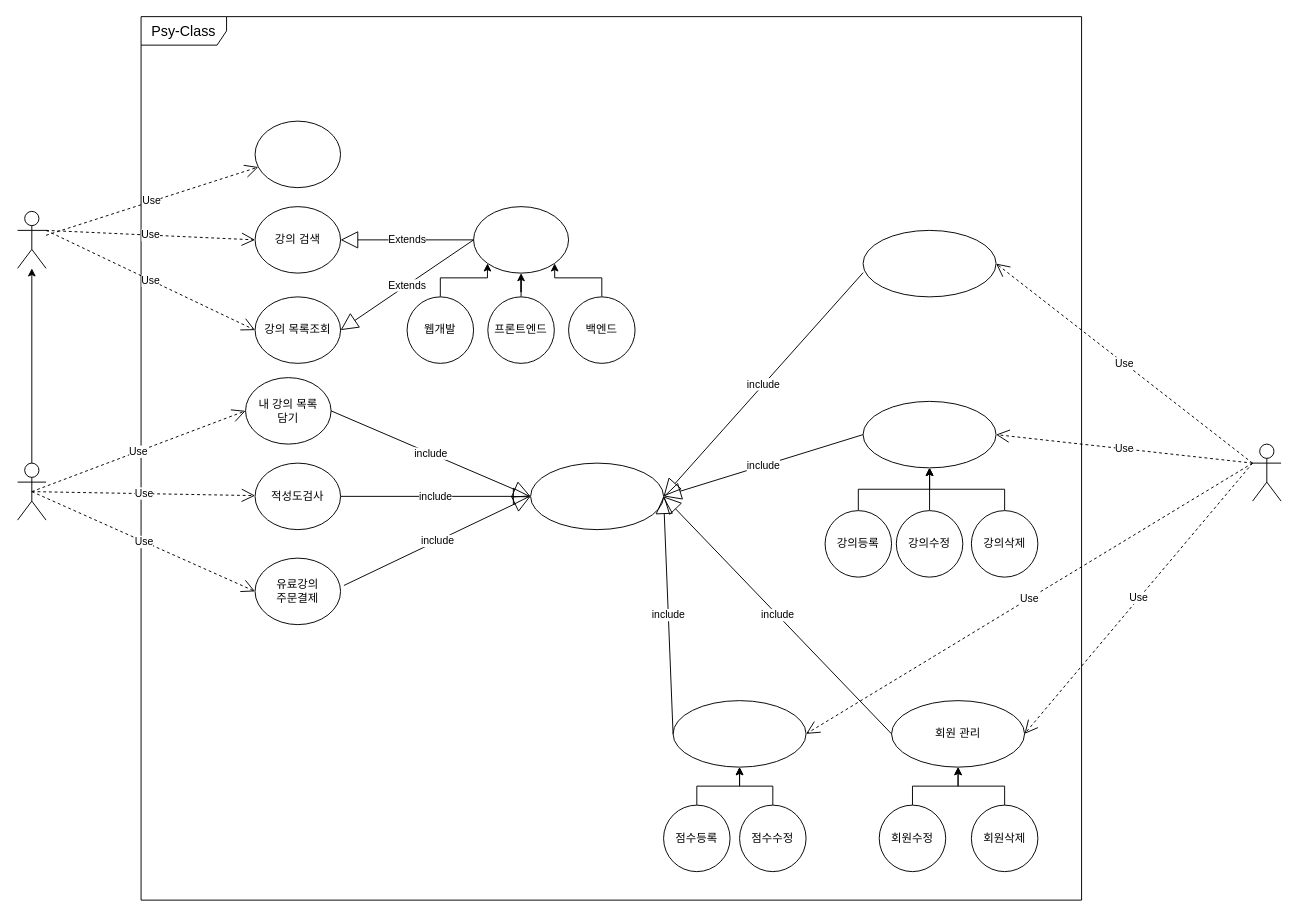
Image size: 1299x917. Some labels were removed from this diagram. The shapes that lost their labels are listed below. From the top down, each one's centre as x and y in pixels, then its label:
At pixel 297 154: "회원가입".
At pixel 31 239: "비회원".
At pixel 521 239: "강의 상세 조회".
At pixel 929 263: "온라인 입금처리".
At pixel 929 434: "강의 제공".
At pixel 31 491: "회원".
At pixel 1266 472: "관리자".
At pixel 597 496: "사용자 인증".
At pixel 739 733: "적성도 점수 결과".
